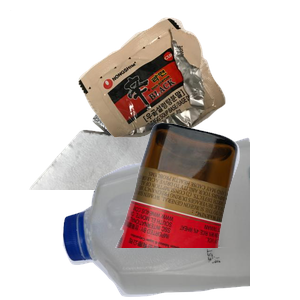glass: (113, 120, 300, 300)
paper: (10, 10, 250, 190)
plastic: (60, 135, 300, 300)
trash: (76, 15, 300, 145)
